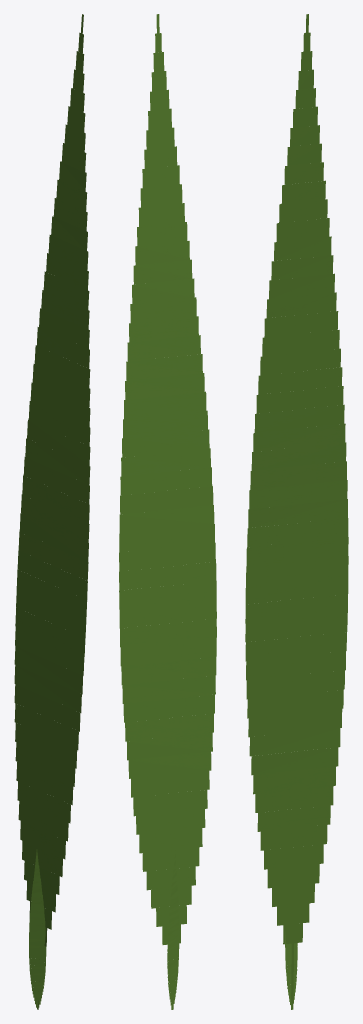
Rendered from maize_001_day_025.dae.
3 views of the same model, side by side, from view 1: azimuth 90°, elevation 25°; view 2: azimuth 150°, elevation 25°; view 3: azimuth 330°, elevation 25° (orthographic). The views are drawn at different scales.
Visible parts, largest first — view 1: node; view 2: node; view 3: node.
Boxes of the visible parts, x1,y1,x2,y2 form: node: [14, 14, 90, 1009]; node: [119, 14, 216, 1009]; node: [245, 14, 348, 1009].
Bounding box in the file's own units: 0.0105 × 0.1445 × 0.0102.
1 material, 1 textured.
